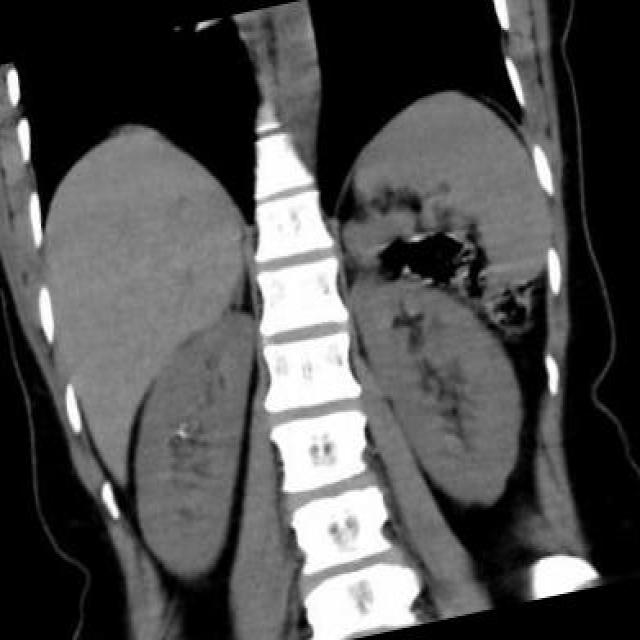Tas_Var: (174, 423, 186, 441)
